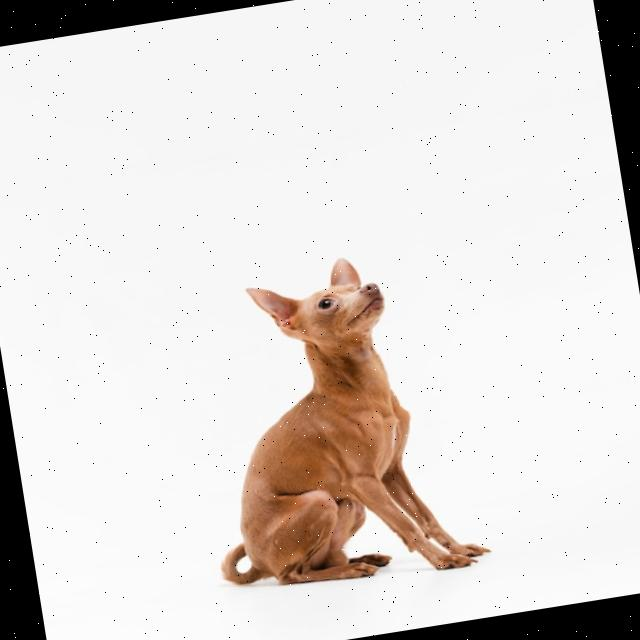Dog: (177, 239, 491, 604)
